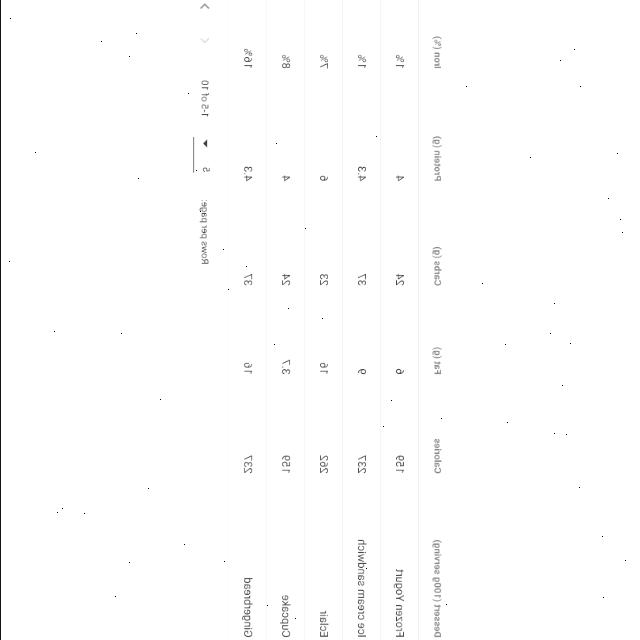VDataTable: (188, 0, 452, 640)
